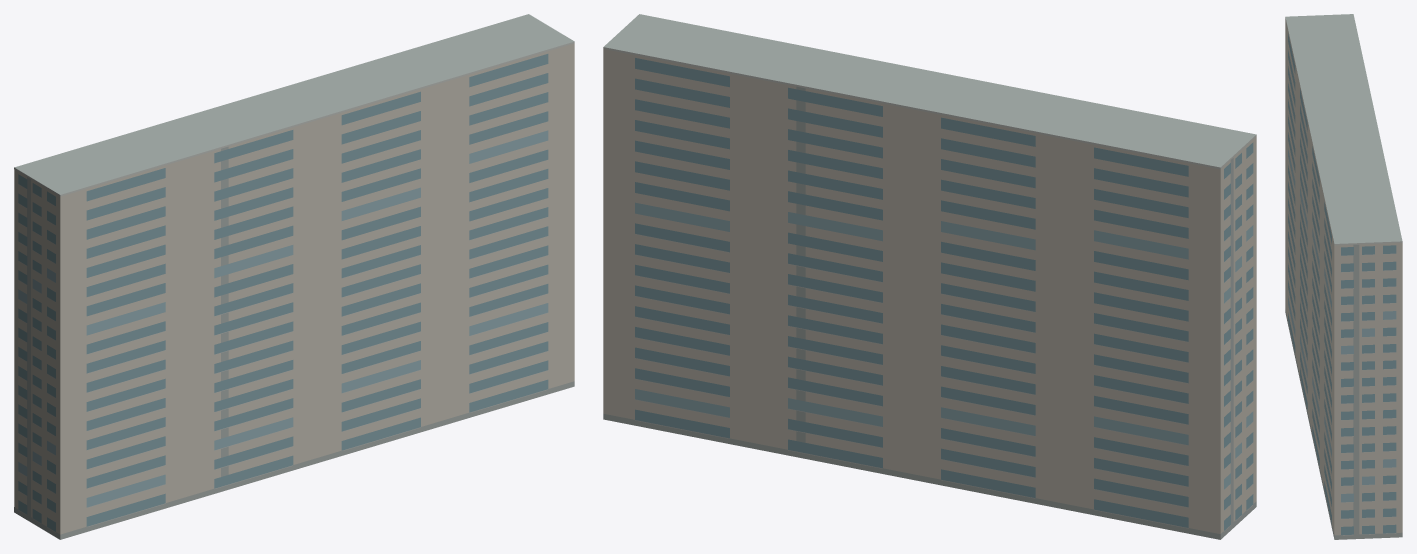
File: residential-41582658-d960-418a-941a-838736633ab0.glb
3 views of the same model, side by side, from view 1: azimuth 30°, elevation 25°; view 2: azimuth 150°, elevation 25°; view 3: azimuth 270°, elevation 25° (orthographic). The views are drawn at different scales.
Visible parts, largest first — view 1: residential-41582658-d960-418a-941a-838736633ab0.tmp; view 2: residential-41582658-d960-418a-941a-838736633ab0.tmp; view 3: residential-41582658-d960-418a-941a-838736633ab0.tmp.
Boxes of the visible parts, x1,y1,x2,y2 form: residential-41582658-d960-418a-941a-838736633ab0.tmp: [14, 14, 574, 539]; residential-41582658-d960-418a-941a-838736633ab0.tmp: [603, 14, 1256, 539]; residential-41582658-d960-418a-941a-838736633ab0.tmp: [1285, 14, 1402, 539].
Size of the model in its own units: 80.02 by 48 by 17.23.
